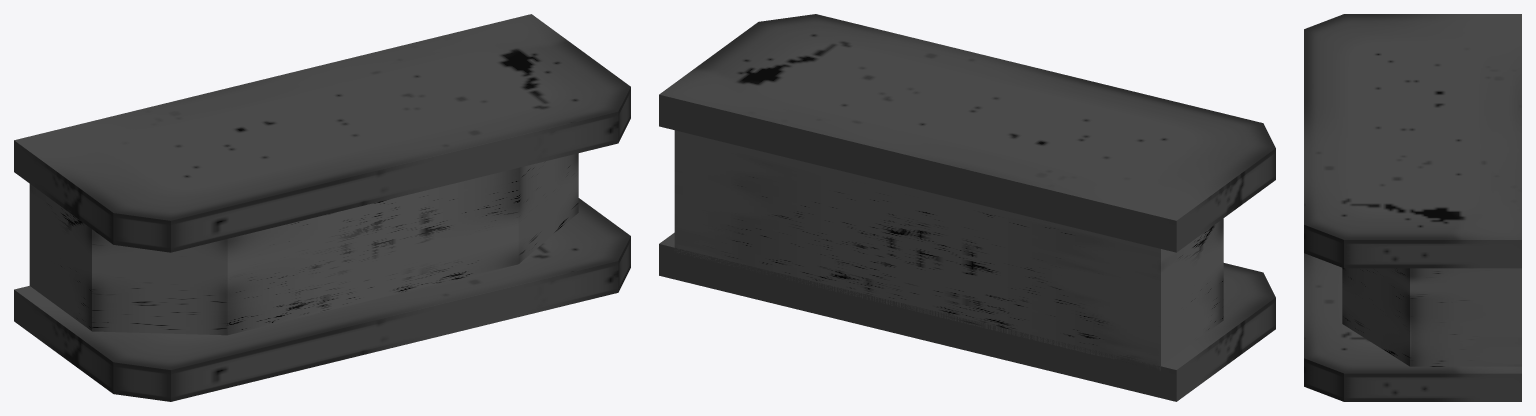
Rendered from Platform_1x3_Cap_Blank_V1.fbx.
3 views of the same model, side by side, from view 1: azimuth 30°, elevation 25°; view 2: azimuth 150°, elevation 25°; view 3: azimuth 270°, elevation 25° (orthographic). The views are drawn at different scales.
Visible parts, largest first — view 1: Platform 1x3 Cap Blank V1; view 2: Platform 1x3 Cap Blank V1; view 3: Platform 1x3 Cap Blank V1.
Boxes of the visible parts, x1,y1,x2,y2 form: Platform 1x3 Cap Blank V1: (14,14,630,401); Platform 1x3 Cap Blank V1: (659,14,1275,401); Platform 1x3 Cap Blank V1: (1304,14,1521,401).
Size of the model in its own units: 298 by 99.77 by 122.
